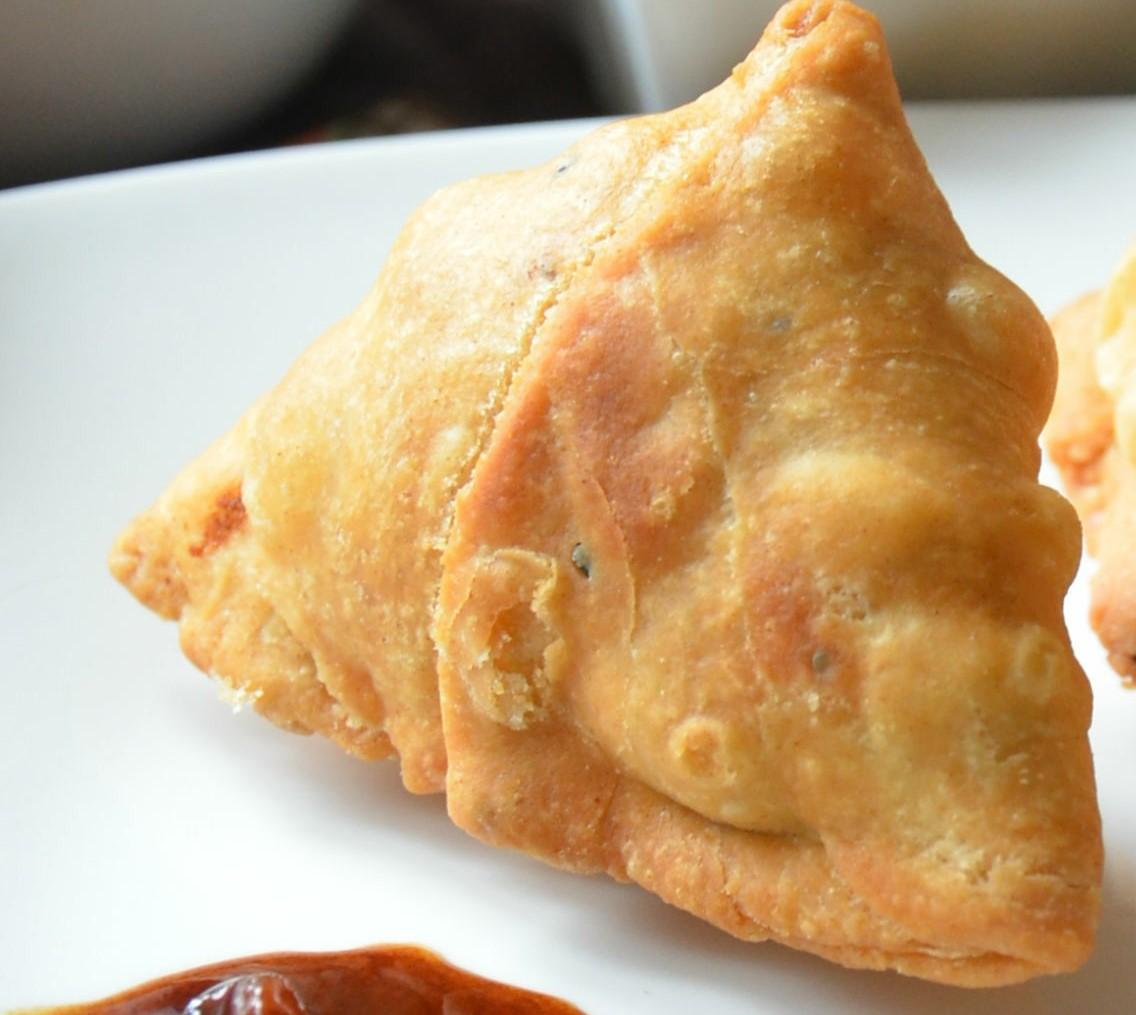Samosa: (106, 0, 1101, 986)
